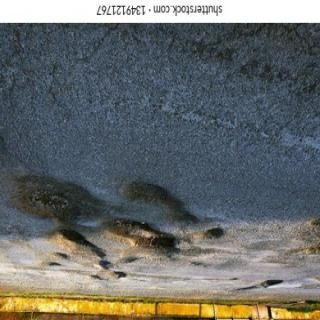pothole: (16, 176, 106, 225), (118, 181, 204, 230), (48, 230, 126, 280), (102, 220, 180, 262)
